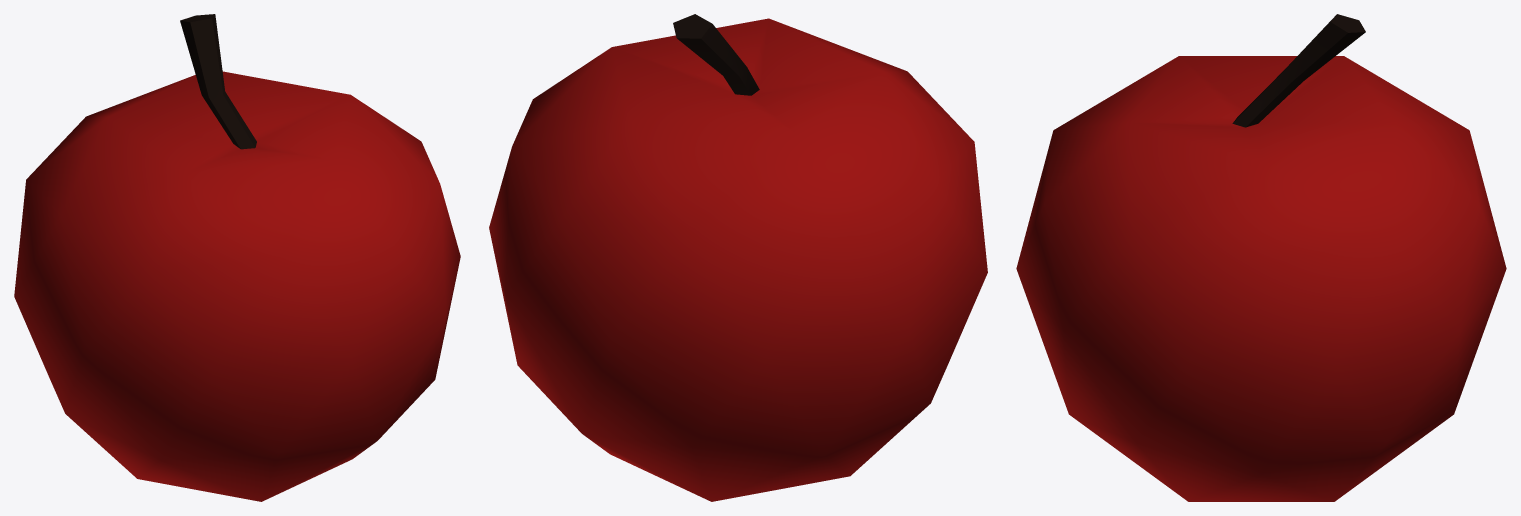
File: Apple.FBX
3 views of the same model, side by side, from view 1: azimuth 30°, elevation 25°; view 2: azimuth 150°, elevation 25°; view 3: azimuth 270°, elevation 25° (orthographic). The views are drawn at different scales.
Parts seen in each view (by area): view 1: Food_apple_01; view 2: Food_apple_01; view 3: Food_apple_01.
Boxes of the visible parts, x1=… form: Food_apple_01: x1=14, y1=14, x2=460, y2=501; Food_apple_01: x1=489, y1=14, x2=987, y2=501; Food_apple_01: x1=1016, y1=14, x2=1506, y2=501.
Bounding box in the file's own units: 4.24 × 4.46 × 4.74.
